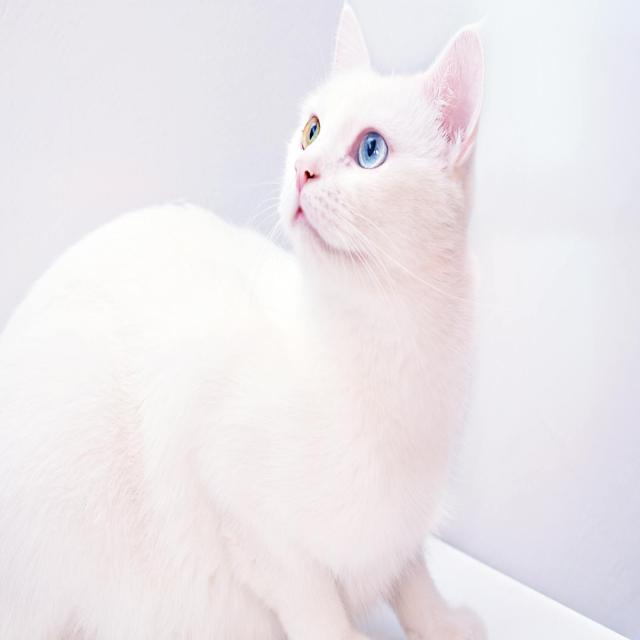Cat: (0, 2, 489, 638)
